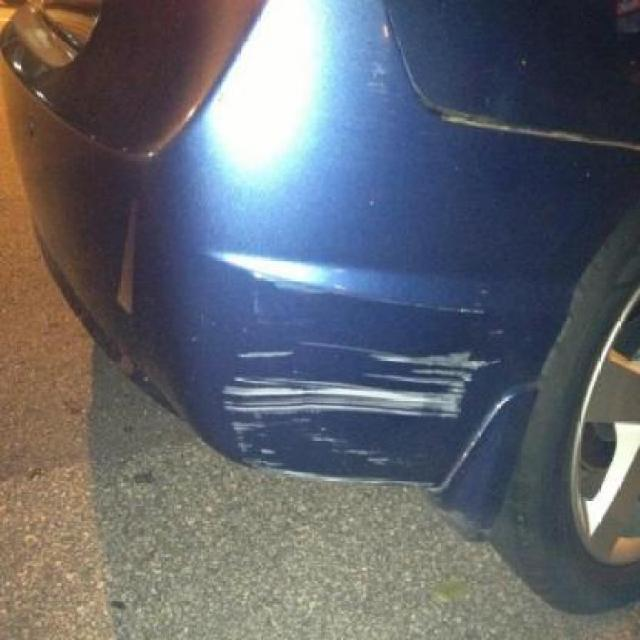damage: (220, 338, 492, 483)
